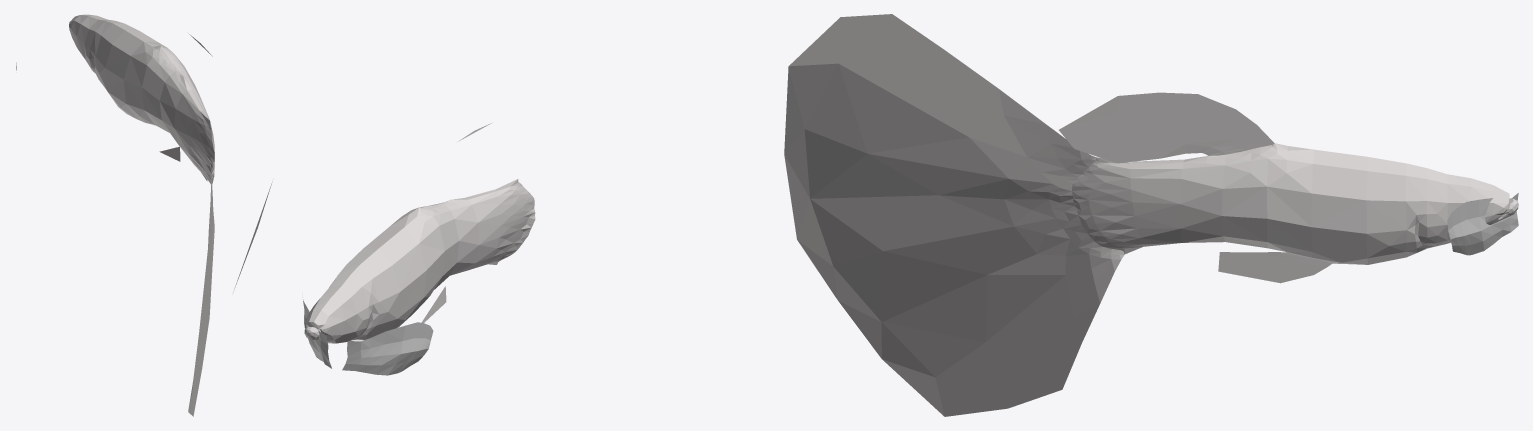
File: guppy_fish_metal.glb
The picture shows the model from 3 angles, left to right: view 1: azimuth 30°, elevation 25°; view 2: azimuth 150°, elevation 25°; view 3: azimuth 270°, elevation 25°; orthographic projection. The views are drawn at different scales.
Bounding box in the file's own units: 2.54 × 4.76 × 7.41.
Materials: 2 (1 with a texture image).
